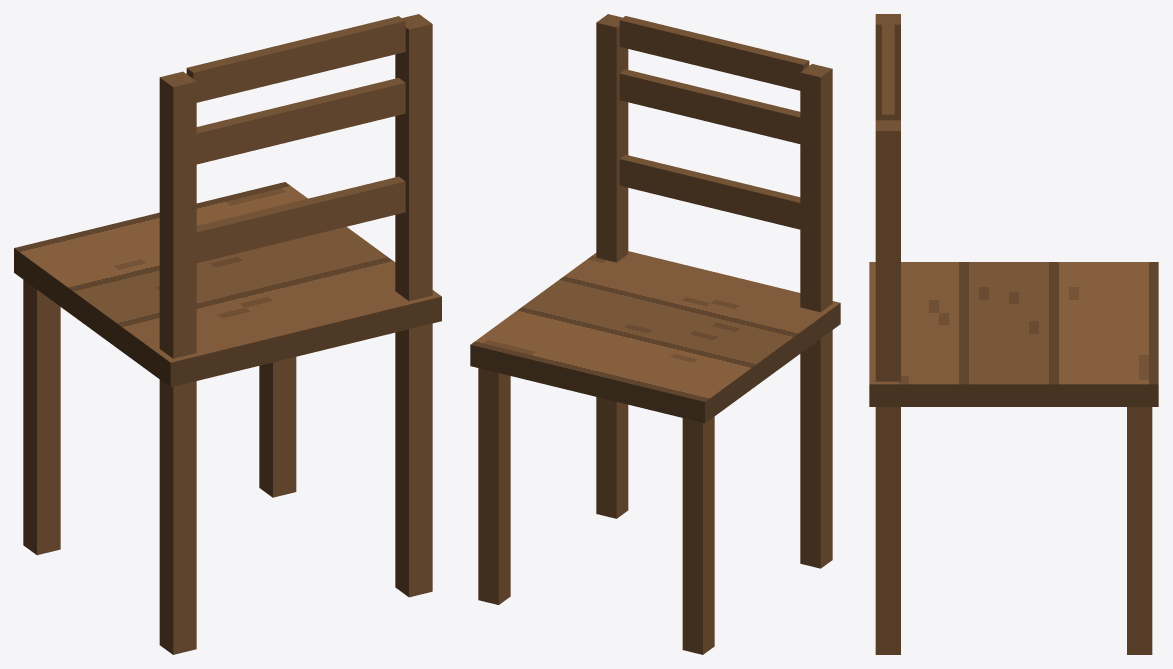
Rendered from f_chair.glb.
The picture shows the model from 3 angles, left to right: view 1: azimuth 30°, elevation 25°; view 2: azimuth 150°, elevation 25°; view 3: azimuth 270°, elevation 25°; orthographic projection. The views are drawn at different scales.
Visible parts, largest first — view 1: block_seat, block_post-0.22, block_leg-0.220.18, block_leg0.180.18, block_leg-0.22-0.22, block_post0.18, block_slat0.88, block_slat0.62, block_slat0.78, block_leg0.18-0.22; view 2: block_seat, block_post-0.22, block_leg-0.22-0.22, block_leg0.18-0.22, block_leg-0.220.18, block_post0.18, block_slat0.88, block_slat0.62, block_slat0.78, block_leg0.180.18; view 3: block_seat, block_post0.18, block_leg0.18-0.22, block_leg0.180.18, block_post-0.22, block_slat0.88.
Boxes of the visible parts, x1,y1,x2,y2 form: block_seat: (14,182,441,387); block_post-0.22: (159,71,196,358); block_leg-0.220.18: (159,379,196,654); block_leg0.180.18: (395,323,432,597); block_leg-0.22-0.22: (23,280,60,555); block_post0.18: (395,14,432,300); block_slat0.88: (186,16,405,102); block_slat0.62: (196,176,405,262); block_slat0.78: (196,78,405,164); block_leg0.18-0.22: (259,357,296,497); block_seat: (470,251,840,423); block_post-0.22: (800,64,832,312); block_leg-0.22-0.22: (682,416,714,654); block_leg0.18-0.22: (478,368,510,604); block_leg-0.220.18: (800,330,832,568); block_post0.18: (596,14,628,262); block_slat0.88: (619,16,809,90); block_slat0.62: (619,154,800,229); block_slat0.78: (619,69,800,143); block_leg0.180.18: (596,397,628,518); block_seat: (869,262,1158,406); block_post0.18: (875,120,900,381); block_leg0.18-0.22: (1127,407,1152,654); block_leg0.180.18: (875,407,900,654); block_post-0.22: (875,14,900,120); block_slat0.88: (882,19,894,120).
Size of the model in its own units: 0.46 by 0.93 by 0.46.
1 material, 1 textured.
